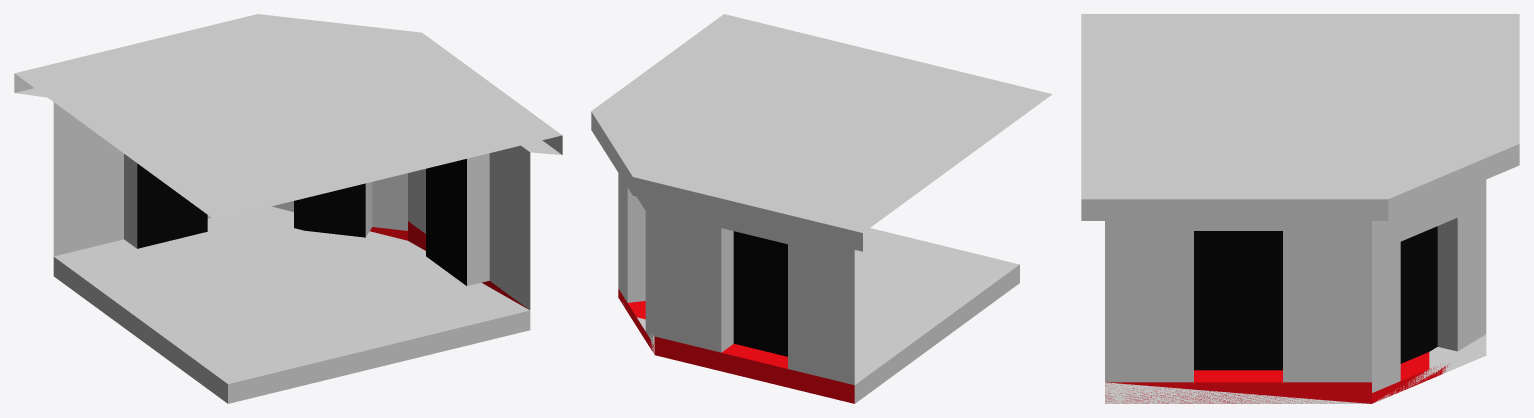
The model's file is Edificio-1.fbx.
3 views of the same model, side by side, from view 1: azimuth 30°, elevation 25°; view 2: azimuth 150°, elevation 25°; view 3: azimuth 270°, elevation 25° (orthographic). The views are drawn at different scales.
Parts seen in each view (by area): view 1: Plane; view 2: Plane; view 3: Plane.
Boxes of the visible parts, x1,y1,x2,y2 form: Plane: [14, 14, 562, 403]; Plane: [591, 14, 1052, 403]; Plane: [1081, 14, 1519, 403].
Size of the model in its own units: 920 by 500 by 920.
